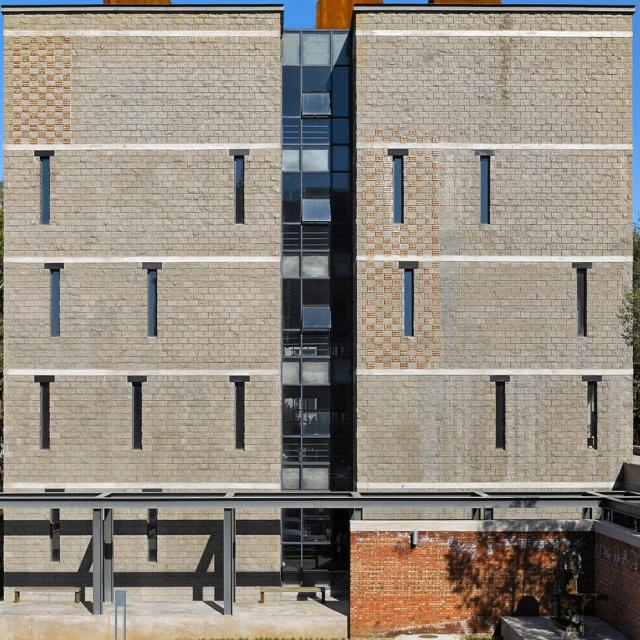Railing: (282, 222, 352, 255), (281, 436, 350, 465), (282, 330, 350, 357), (280, 118, 331, 145)
wall: (3, 6, 633, 640)
windows: (279, 65, 351, 170), (279, 510, 350, 572), (280, 385, 349, 437), (281, 172, 350, 222), (281, 278, 351, 327), (38, 384, 49, 449), (478, 158, 488, 225), (233, 158, 243, 224), (148, 271, 157, 337), (40, 160, 49, 226), (51, 271, 60, 336), (131, 386, 140, 449), (495, 384, 503, 450), (234, 384, 242, 449), (392, 158, 400, 223), (577, 272, 585, 336), (404, 270, 411, 336), (587, 382, 594, 448)
